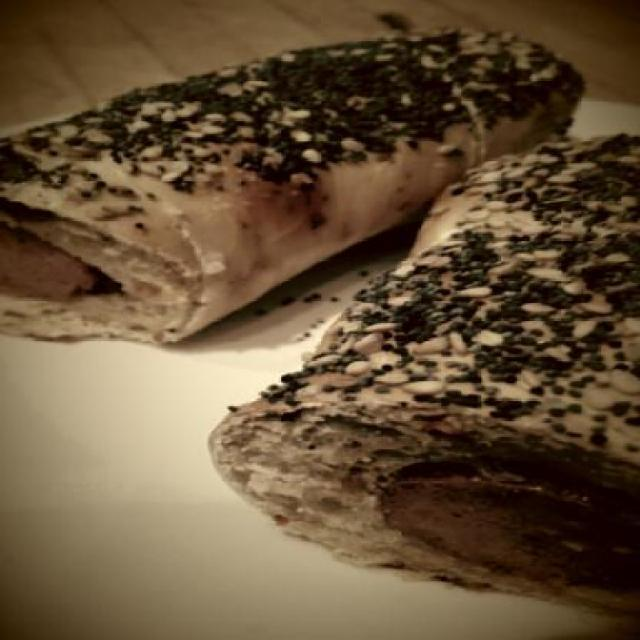Bread: (176, 145, 638, 613), (0, 25, 583, 342)
